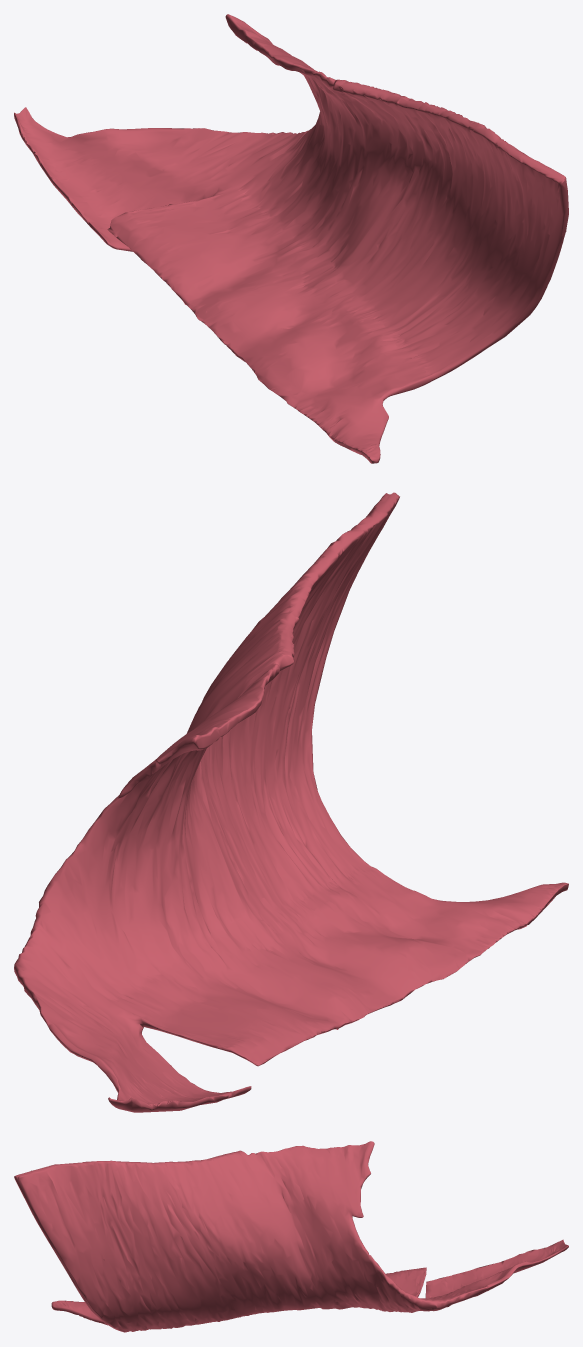
The picture shows the model from 3 angles, top to bottom: view 1: azimuth 30°, elevation 25°; view 2: azimuth 150°, elevation 25°; view 3: azimuth 270°, elevation 25°; orthographic projection. The views are drawn at different scales.
Visible parts, largest first — view 1: 左侧腹横肌; view 2: 左侧腹横肌; view 3: 左侧腹横肌.
Boxes of the visible parts, x1,y1,x2,y2 form: 左侧腹横肌: [14, 14, 568, 463]; 左侧腹横肌: [14, 492, 568, 1112]; 左侧腹横肌: [14, 1141, 568, 1332].
Size of the model in its own units: 0.1909 by 0.2467 by 0.6205.
